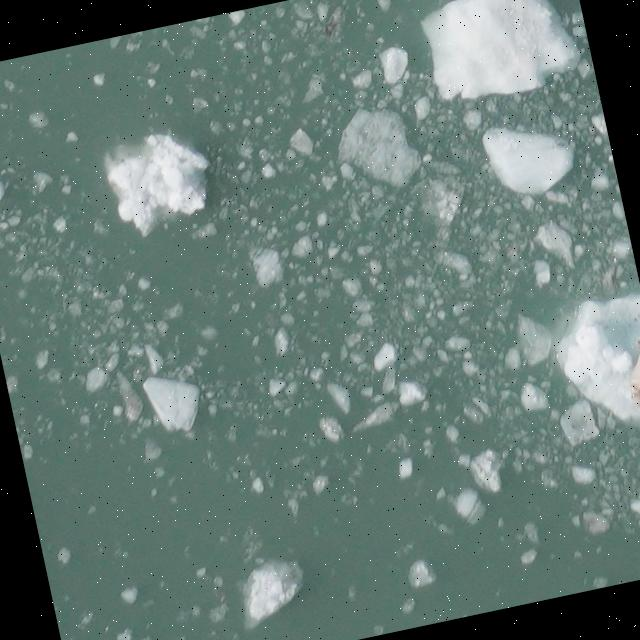seal: (613, 336, 640, 423)
